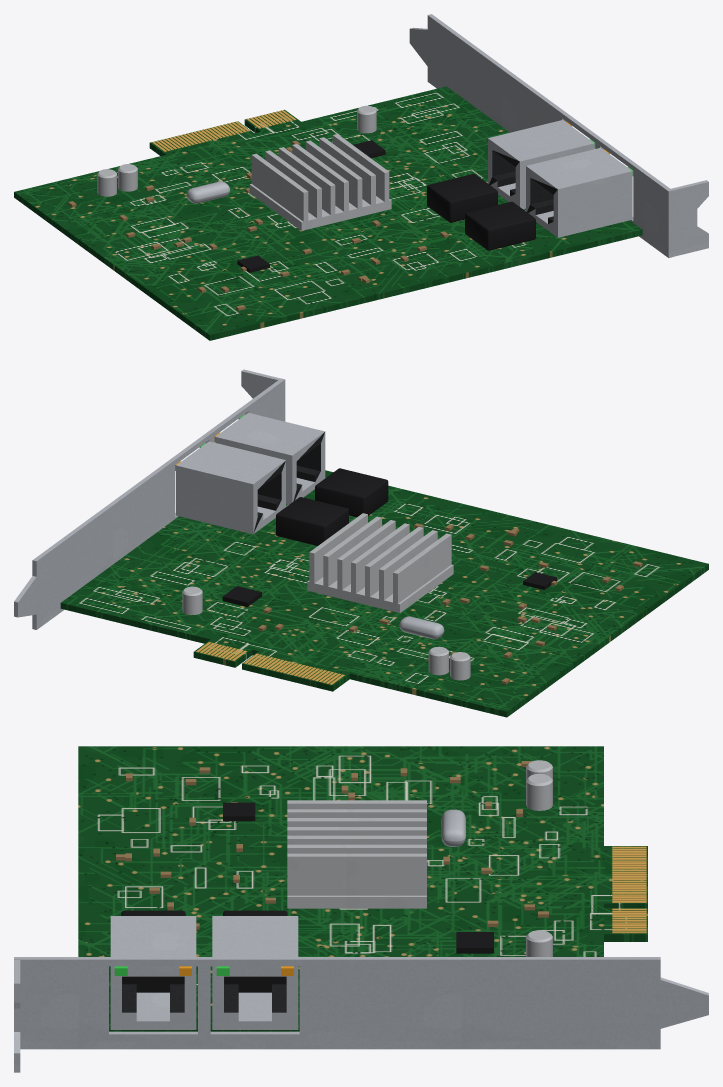
File: pcie-network-card-dual-port.glb
3 renders of one model, top to bottom at view 1: azimuth 30°, elevation 25°; view 2: azimuth 150°, elevation 25°; view 3: azimuth 270°, elevation 25°, orthographic. The views are drawn at different scales.
Visible parts, largest first — view 1: Circuit board, Bracket, RJ45 jacks, Heatsink, Chips and magnetics, Gold edge contacts, Capacitors, Passive components, Crystal; view 2: Circuit board, RJ45 jacks, Bracket, Heatsink, Chips and magnetics, Gold edge contacts, Capacitors, Passive components, Crystal; view 3: Circuit board, Bracket, RJ45 jacks, Heatsink, Gold edge contacts, Chips and magnetics, Capacitors, Passive components, Jack backs, Crystal.
Boxes of the visible parts, x1,y1,x2,y2 form: Circuit board: (14, 86, 642, 340); Bracket: (409, 14, 708, 257); RJ45 jacks: (488, 120, 632, 237); Heatsink: (249, 134, 391, 230); Chips and magnetics: (237, 140, 535, 272); Gold edge contacts: (152, 110, 296, 151); Capacitors: (97, 105, 376, 196); Passive components: (68, 140, 448, 310); Crystal: (186, 181, 230, 203); Circuit board: (60, 470, 708, 717); RJ45 jacks: (176, 412, 325, 534); Bracket: (14, 369, 285, 629); Heatsink: (307, 513, 453, 612); Chips and magnetics: (222, 468, 556, 606); Gold edge contacts: (196, 642, 344, 684); Capacitors: (182, 586, 470, 680); Passive components: (258, 523, 642, 684); Crystal: (399, 616, 444, 639); Circuit board: (78, 746, 647, 1031); Bracket: (14, 957, 708, 1072); RJ45 jacks: (110, 916, 298, 1029); Heatsink: (287, 800, 426, 908); Gold edge contacts: (612, 846, 646, 933); Chips and magnetics: (121, 802, 493, 953); Capacitors: (526, 760, 552, 956); Passive components: (116, 761, 548, 929); Jack backs: (122, 976, 286, 992); Crystal: (441, 809, 465, 846).
Bounding box in the file's own units: 0.1373 × 0.0184 × 0.1296.
9 materials, 9 textured.
